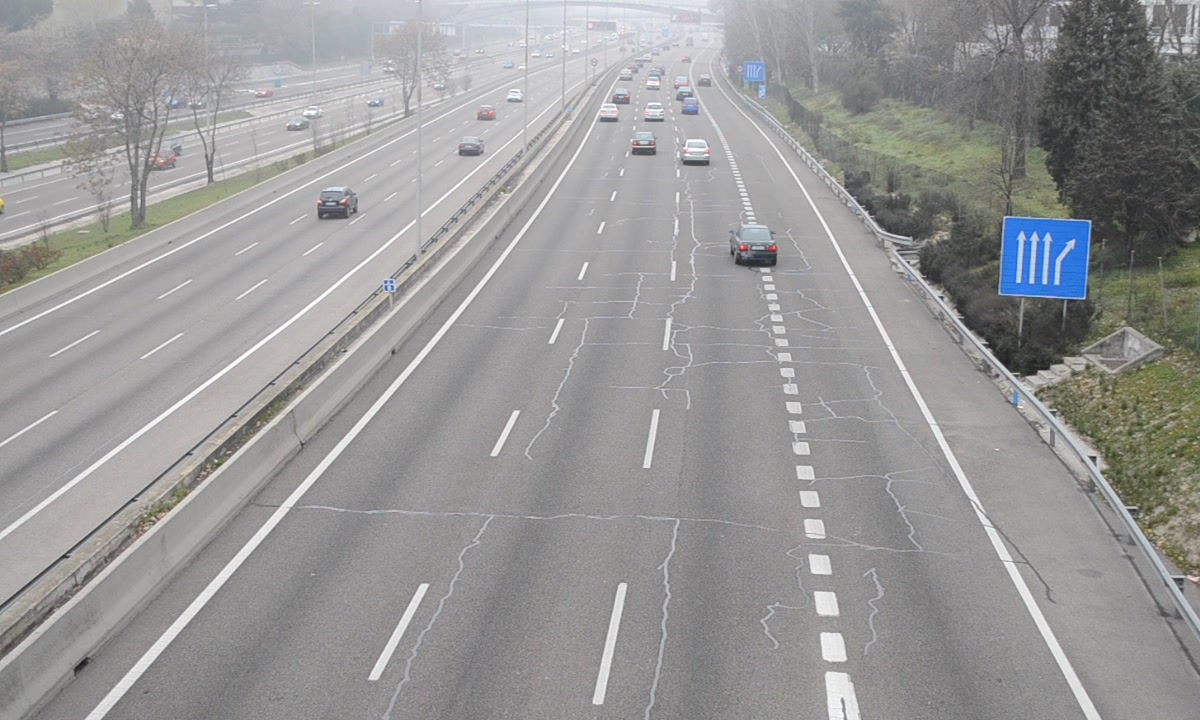car: (730, 223, 778, 264), (680, 138, 712, 167), (631, 128, 657, 155)
